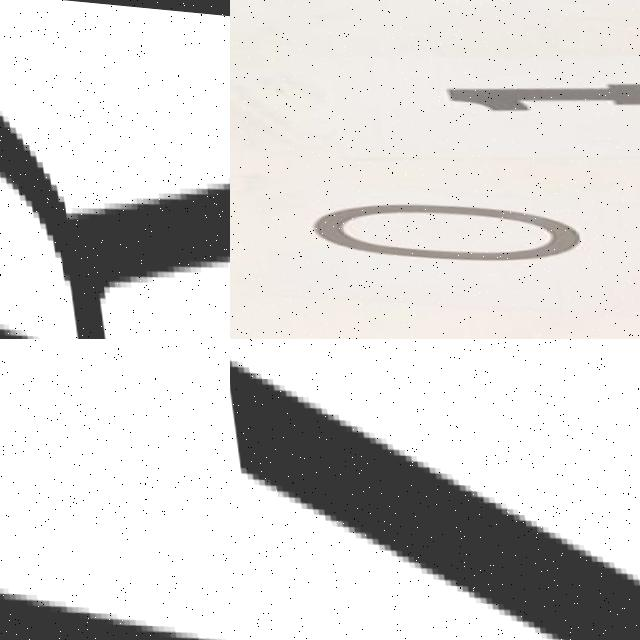0: (295, 177, 576, 275)
1: (433, 53, 640, 122)
R: (0, 0, 230, 339)
T: (0, 339, 230, 640)
V: (230, 339, 640, 640)
